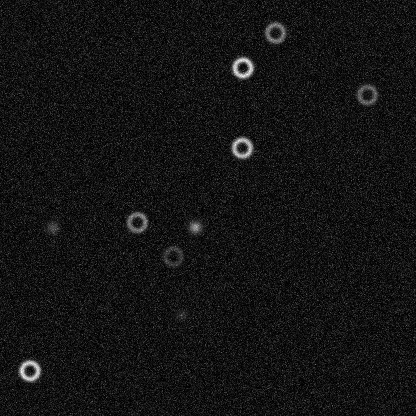Ring: (230, 55, 254, 79), (229, 135, 253, 159), (160, 244, 184, 268), (263, 20, 287, 44), (355, 82, 379, 106), (124, 210, 148, 234), (17, 358, 41, 382)
Spot: (186, 219, 202, 235), (173, 306, 189, 322), (44, 219, 60, 235)
